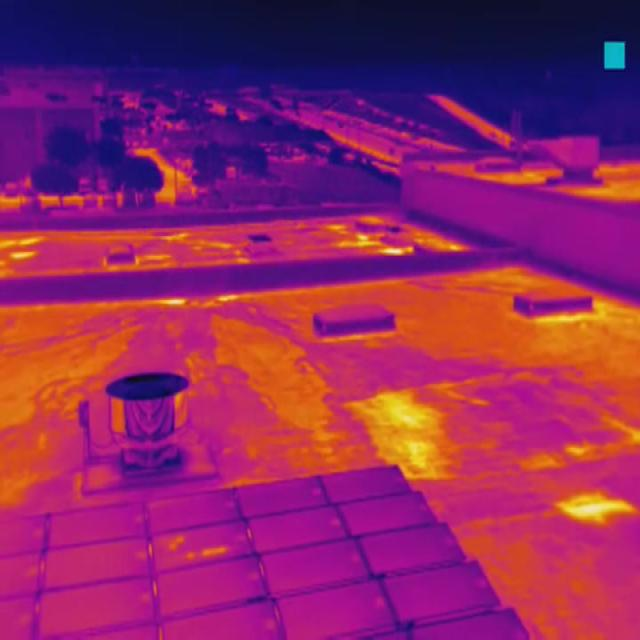Orange-Spots: (202, 545, 226, 557), (168, 534, 183, 550), (186, 550, 197, 562)
